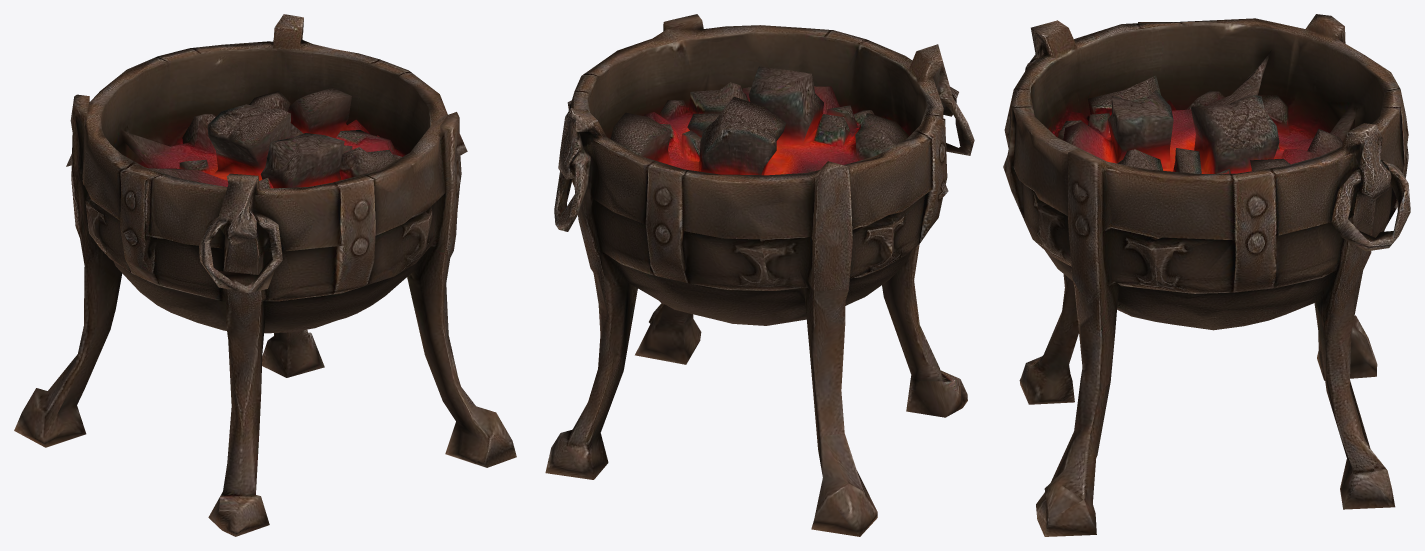
The model's file is brazier.glb.
3 views of the same model, side by side, from view 1: azimuth 30°, elevation 25°; view 2: azimuth 150°, elevation 25°; view 3: azimuth 270°, elevation 25° (orthographic). The views are drawn at different scales.
Size of the model in its own units: 1 by 0.9492 by 0.9425.
1 material, 1 textured.
